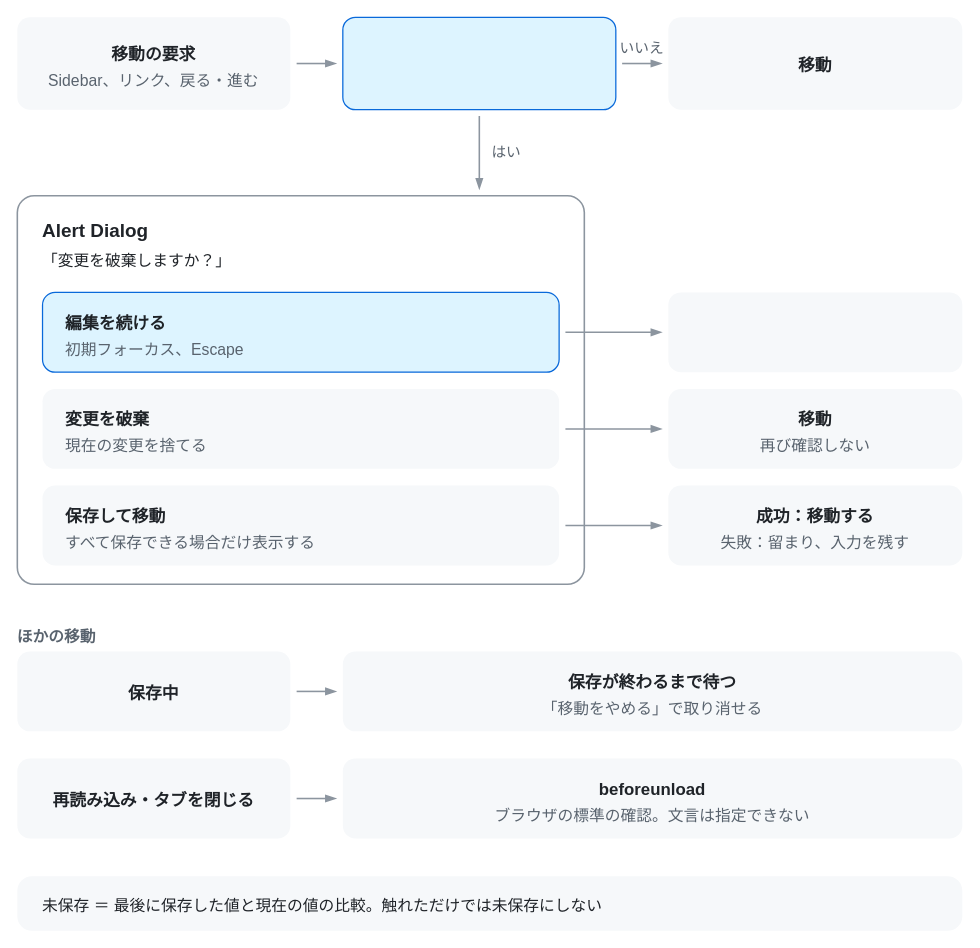
Image size: 980x948. Some labels were removed from this diagram. The shapes that lost their labels are listed below. From the top down, each one's centre as x and y in pixels, then its label:
At (x=479, y=63): "未保存の変更があるか？".
At (x=815, y=332): "留まる".
